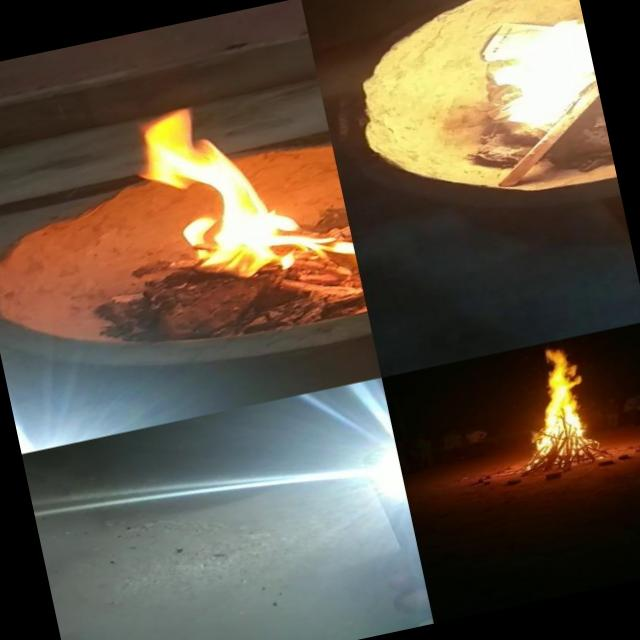fire: (120, 76, 366, 347), (435, 6, 607, 162), (517, 342, 597, 462)
